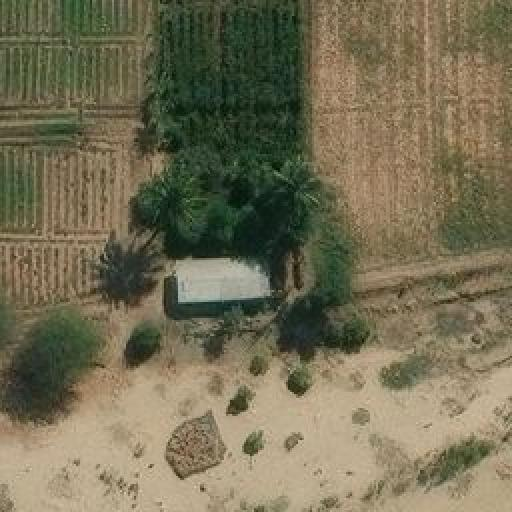manzanas: (167, 253, 276, 309)
